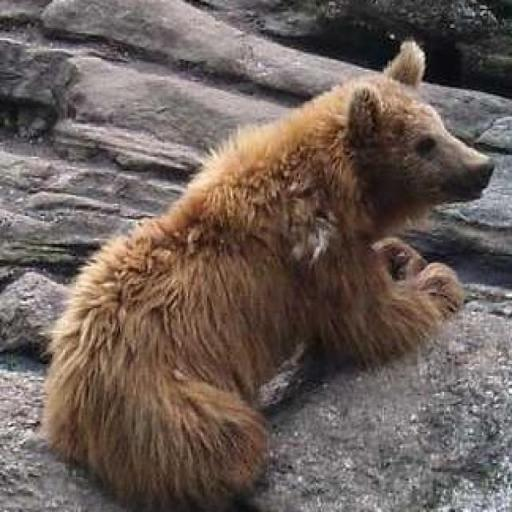Bear: (38, 38, 495, 510)
